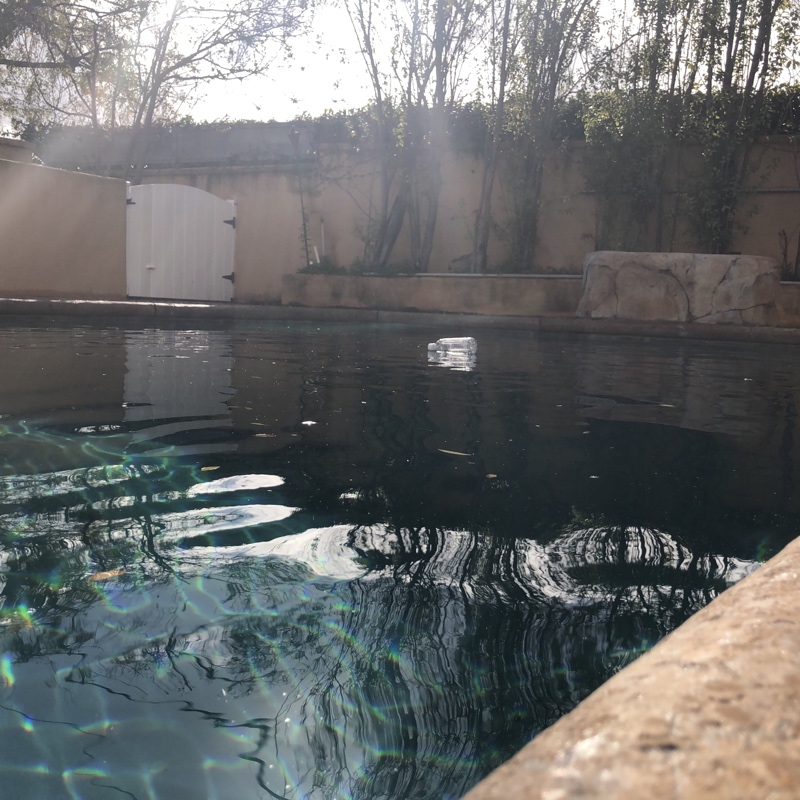Plastic Bottle: (428, 338, 477, 354)
